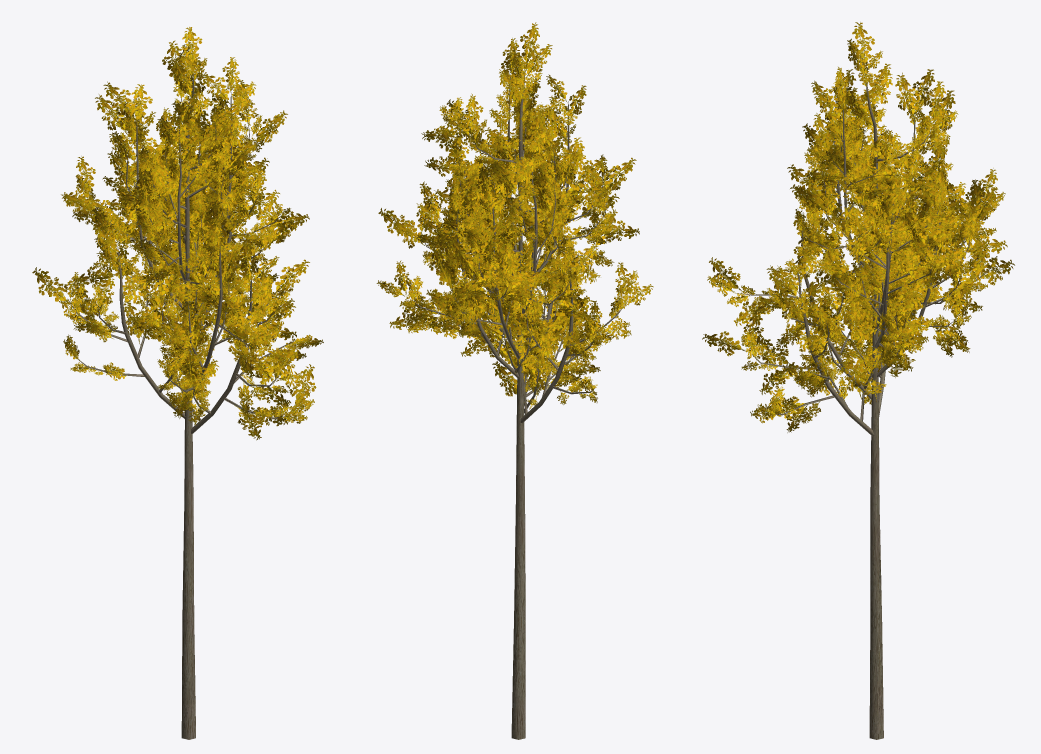
The model's file is tree_LOD1.glb.
3 views of the same model, side by side, from view 1: azimuth 30°, elevation 25°; view 2: azimuth 150°, elevation 25°; view 3: azimuth 270°, elevation 25° (orthographic).
Visible parts, largest first — view 1: Leaves_LOD1, Branches_LOD1; view 2: Leaves_LOD1, Branches_LOD1; view 3: Leaves_LOD1, Branches_LOD1.
Part boxes in pixels (x1=…): Leaves_LOD1: x1=32, y1=27, x2=323, y2=440; Branches_LOD1: x1=68, y1=74, x2=294, y2=739; Leaves_LOD1: x1=376, y1=22, x2=653, y2=409; Branches_LOD1: x1=410, y1=70, x2=624, y2=739; Leaves_LOD1: x1=702, y1=22, x2=1014, y2=432; Branches_LOD1: x1=736, y1=74, x2=991, y2=739.
Bounding box in the file's own units: 39.33 × 106 × 45.21.
2 materials, 2 textured.
